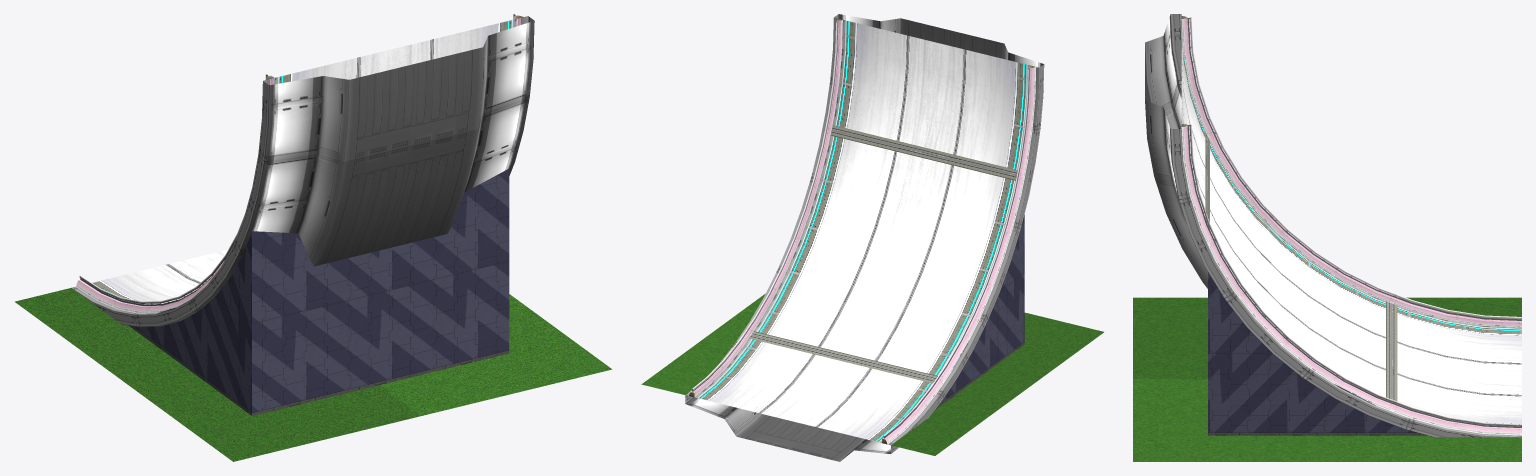
Rendered from T26 - Magnetic.fbx.
3 renders of one model, left to right at view 1: azimuth 30°, elevation 25°; view 2: azimuth 150°, elevation 25°; view 3: azimuth 270°, elevation 25°, orthographic. The views are drawn at different scales.
Parts seen in each view (by area): view 1: standard_bridge10, retainer6, ground, straight_road18, wall3; view 2: straight_road18, standard_bridge10, ground, wall3, magnetic_road_lines, retainer6; view 3: straight_road18, ground, retainer6, standard_bridge10, wall3, magnetic_road_lines.
Part boxes in pixels (left/top/right/bottom): standard_bridge10: left=71, top=16, right=534, bottom=326; retainer6: left=128, top=168, right=509, bottom=415; ground: left=15, top=288, right=612, bottom=461; straight_road18: left=92, top=19, right=516, bottom=304; wall3: left=75, top=14, right=523, bottom=313; straight_road18: left=695, top=20, right=1029, bottom=442; standard_bridge10: left=685, top=14, right=1044, bottom=461; ground: left=641, top=293, right=1103, bottom=455; wall3: left=689, top=18, right=1036, bottom=444; magnetic_road_lines: left=759, top=35, right=1005, bottom=427; retainer6: left=935, top=214, right=1024, bottom=409; straight_road18: left=1181, top=22, right=1521, bottom=426; ground: left=1133, top=297, right=1521, bottom=461; retainer6: left=1208, top=272, right=1427, bottom=435; standard_bridge10: left=1145, top=14, right=1521, bottom=437; wall3: left=1181, top=16, right=1521, bottom=435; magnetic_road_lines: left=1181, top=58, right=1521, bottom=401.
Bounding box in the file's own units: 6400 × 6204 × 6400.
